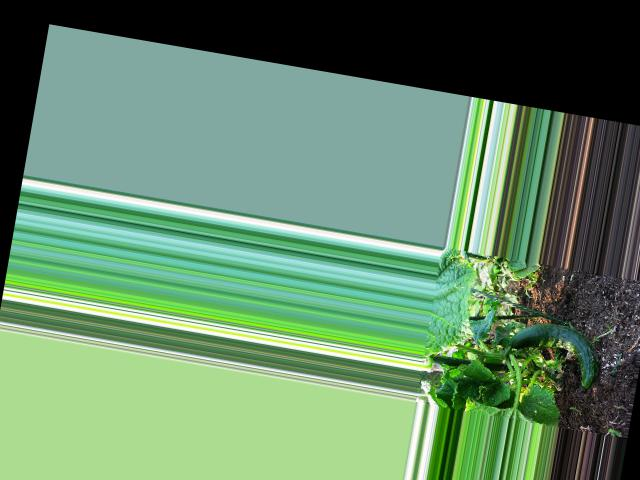cucumber: (503, 316, 605, 390)
